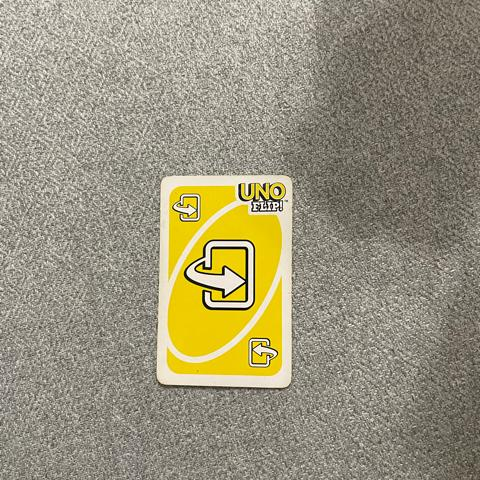5_yellow: (182, 236, 260, 313), (245, 332, 280, 368), (171, 190, 203, 222)
